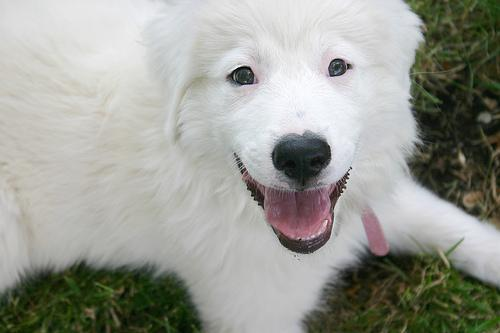Great_Pyrenees: (1, 2, 498, 332)
